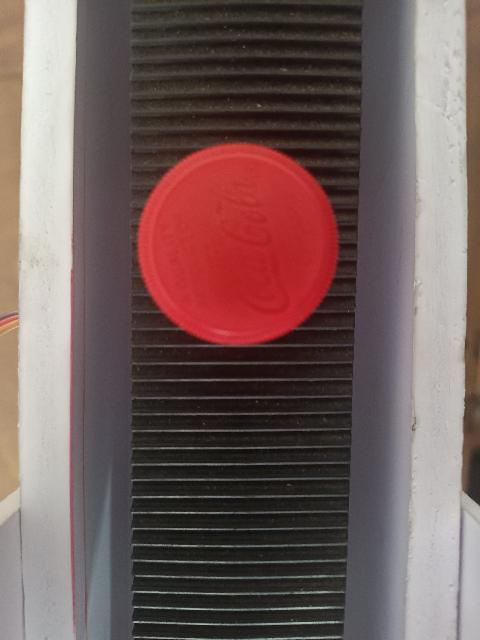bottlecap: (135, 130, 343, 350)
